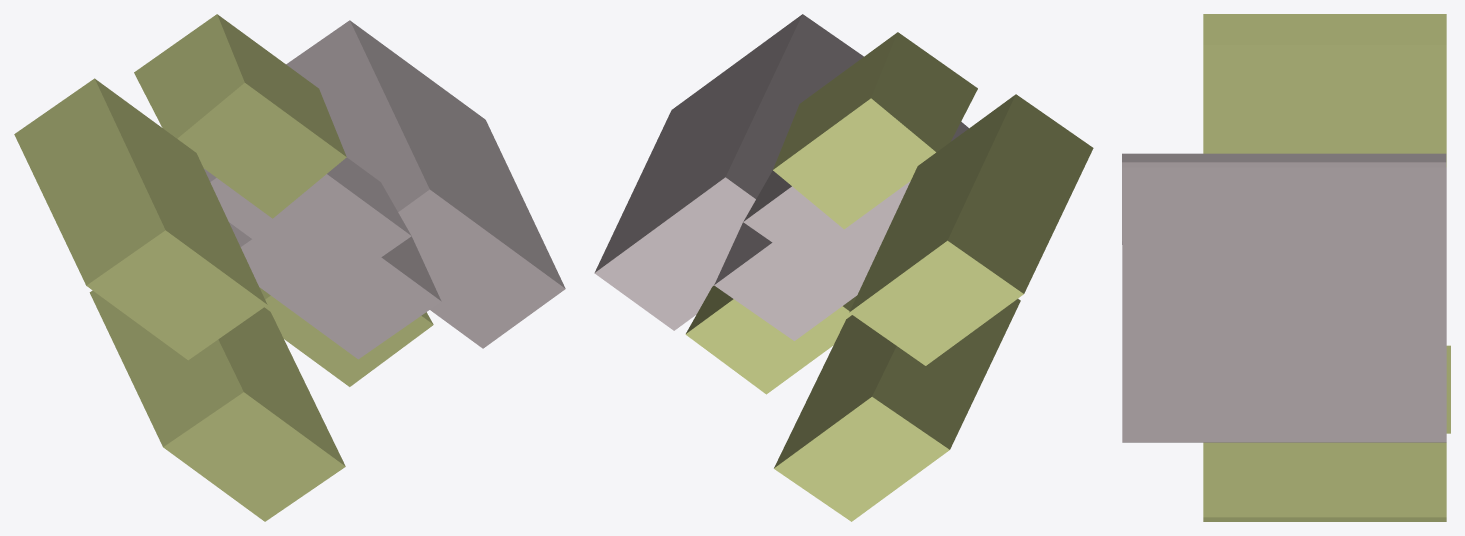
3 renders of one model, left to right at view 1: azimuth 30°, elevation 25°; view 2: azimuth 150°, elevation 25°; view 3: azimuth 270°, elevation 25°, orthographic. The views are drawn at different scales.
Visible parts, largest first — view 1: 0_2_2_0_0_0_0_2_2_0; view 2: 0_2_2_0_0_0_0_2_2_0; view 3: 0_2_2_0_0_0_0_2_2_0.
Part boxes in pixels (left/top/right/bottom): 0_2_2_0_0_0_0_2_2_0: left=14, top=14, right=565, bottom=521; 0_2_2_0_0_0_0_2_2_0: left=594, top=14, right=1093, bottom=521; 0_2_2_0_0_0_0_2_2_0: left=1122, top=14, right=1450, bottom=521.
Size of the model in its own units: 21.17 by 20.45 by 12.17.
